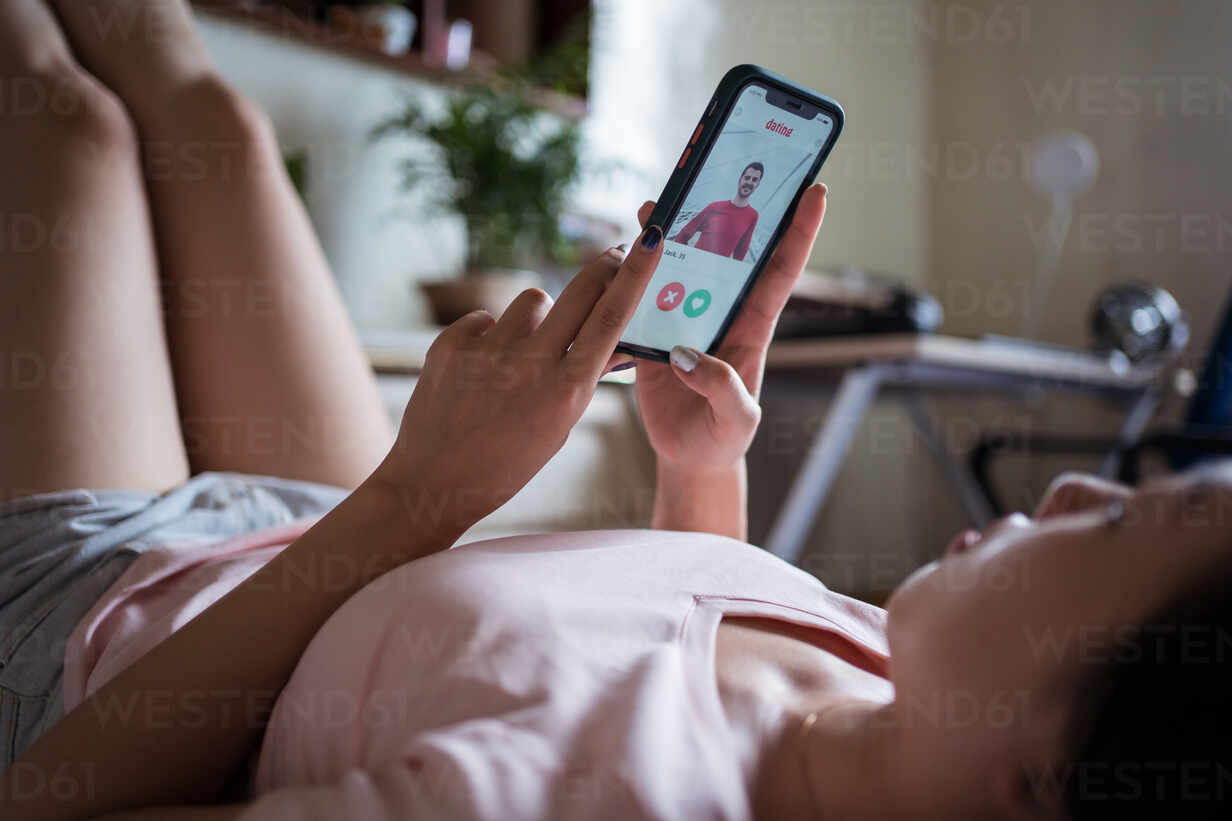Cell Phone: (604, 64, 844, 367)
